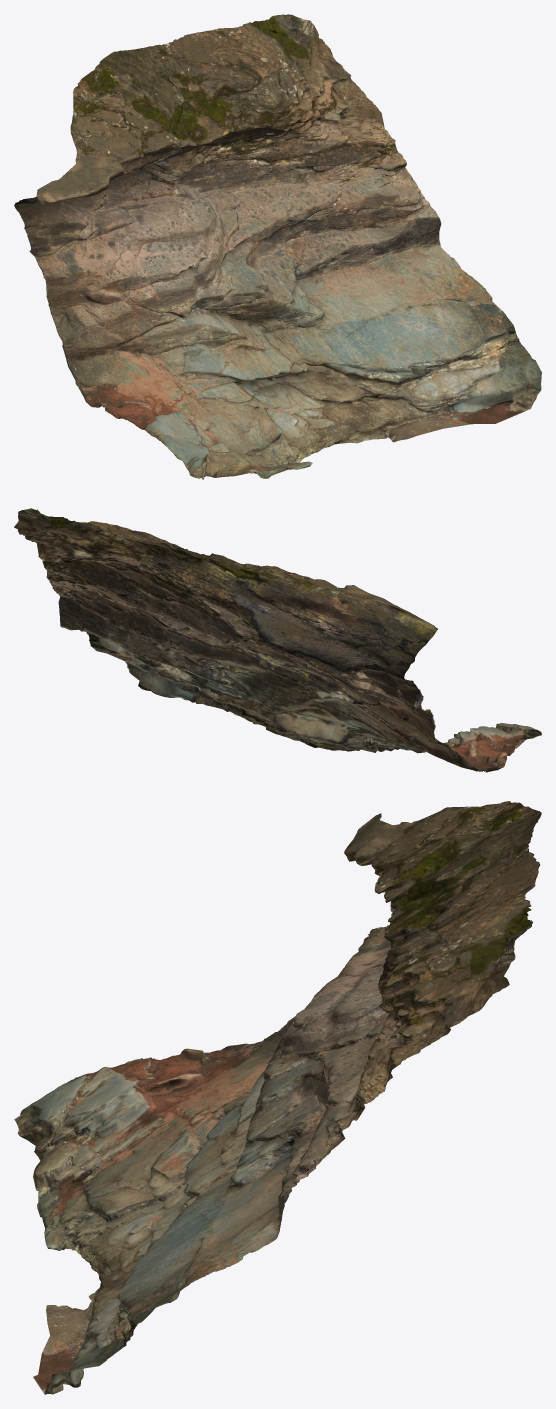
Rendered from rock_face_01_2k.fbx.
3 renders of one model, top to bottom at view 1: azimuth 30°, elevation 25°; view 2: azimuth 150°, elevation 25°; view 3: azimuth 270°, elevation 25°, orthographic. The views are drawn at different scales.
Visible parts, largest first — view 1: rock_face_01; view 2: rock_face_01; view 3: rock_face_01.
Part boxes in pixels (x1,y1,x2,y2): rock_face_01: (14,14,541,479); rock_face_01: (14,508,541,772); rock_face_01: (14,801,541,1394).
Size of the model in its own units: 711 by 498 by 562.
Materials: 1 (1 with a texture image).
